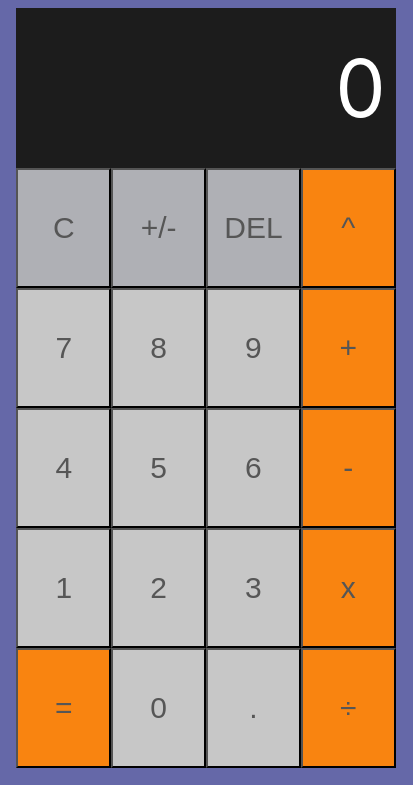
Result is shown dinamically after other operation is selected ( 22 - 7 -> 15 + ...)
The image size is (413, 785).
What coordinates should you click on to do the following:
click the button with test id "button-2"
I would click on:
 (159, 588)
Its box is 111,528 -> 206,648.
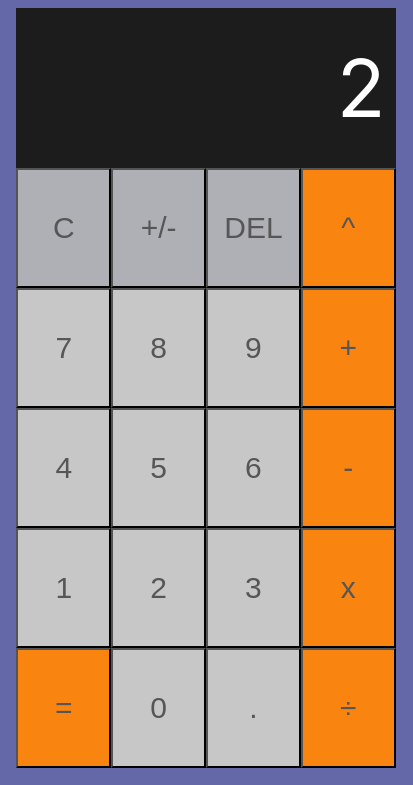
What coordinates should you click on to do the following:
click the button with test id "button-2"
I would click on:
 (159, 588)
Its box is 111,528 -> 206,648.
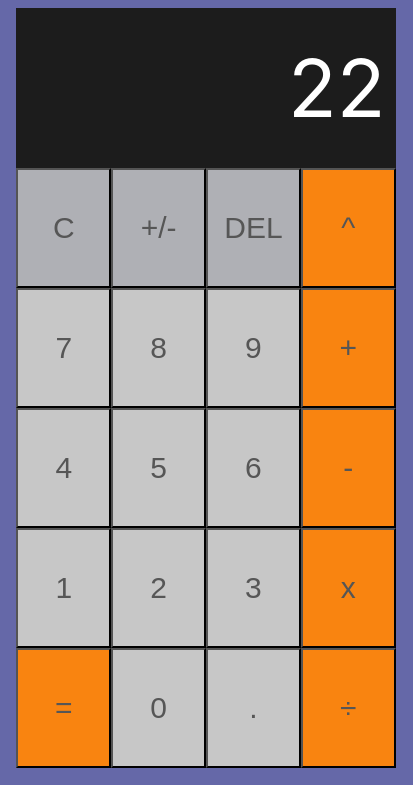
What coordinates should you click on to do the following:
click the button "-"
I would click on:
 (348, 468)
Its box is 301,408 -> 396,528.
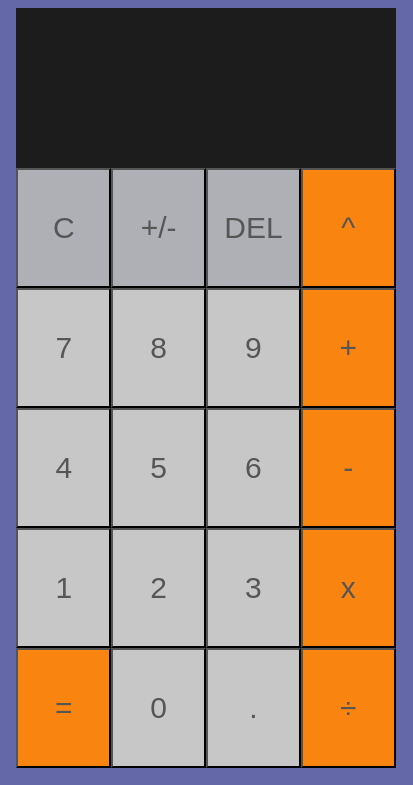
What coordinates should you click on to do the following:
click the button with test id "button-7"
I would click on:
 (64, 348)
Its box is 16,288 -> 111,408.
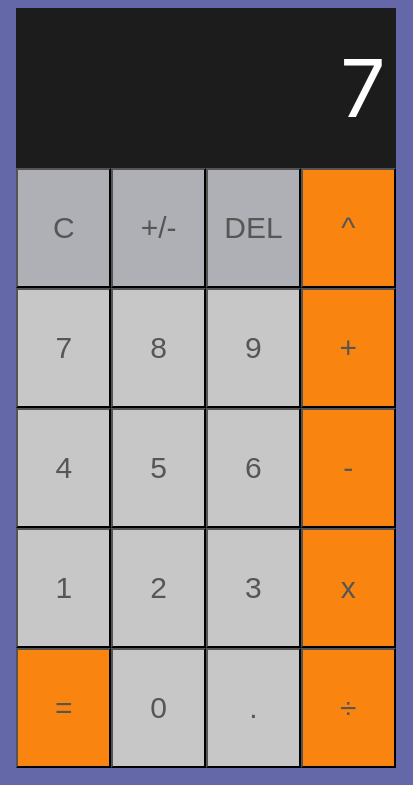
What coordinates should you click on to do the following:
click the button "+"
I would click on:
 (348, 348)
Its box is 301,288 -> 396,408.
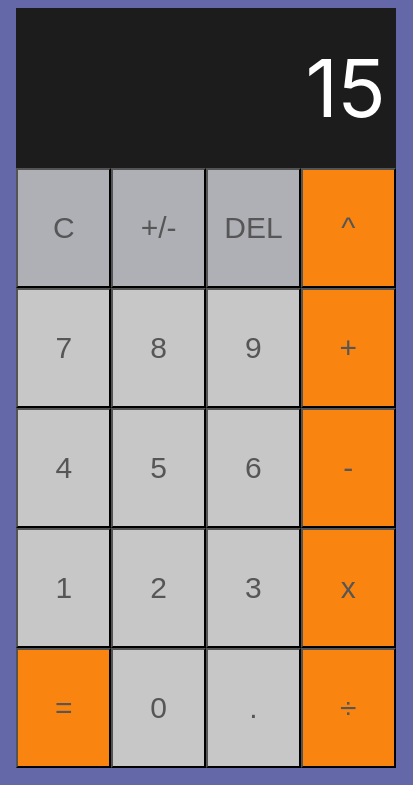
Now the text "15" is shown, box 16,8 -> 396,168
